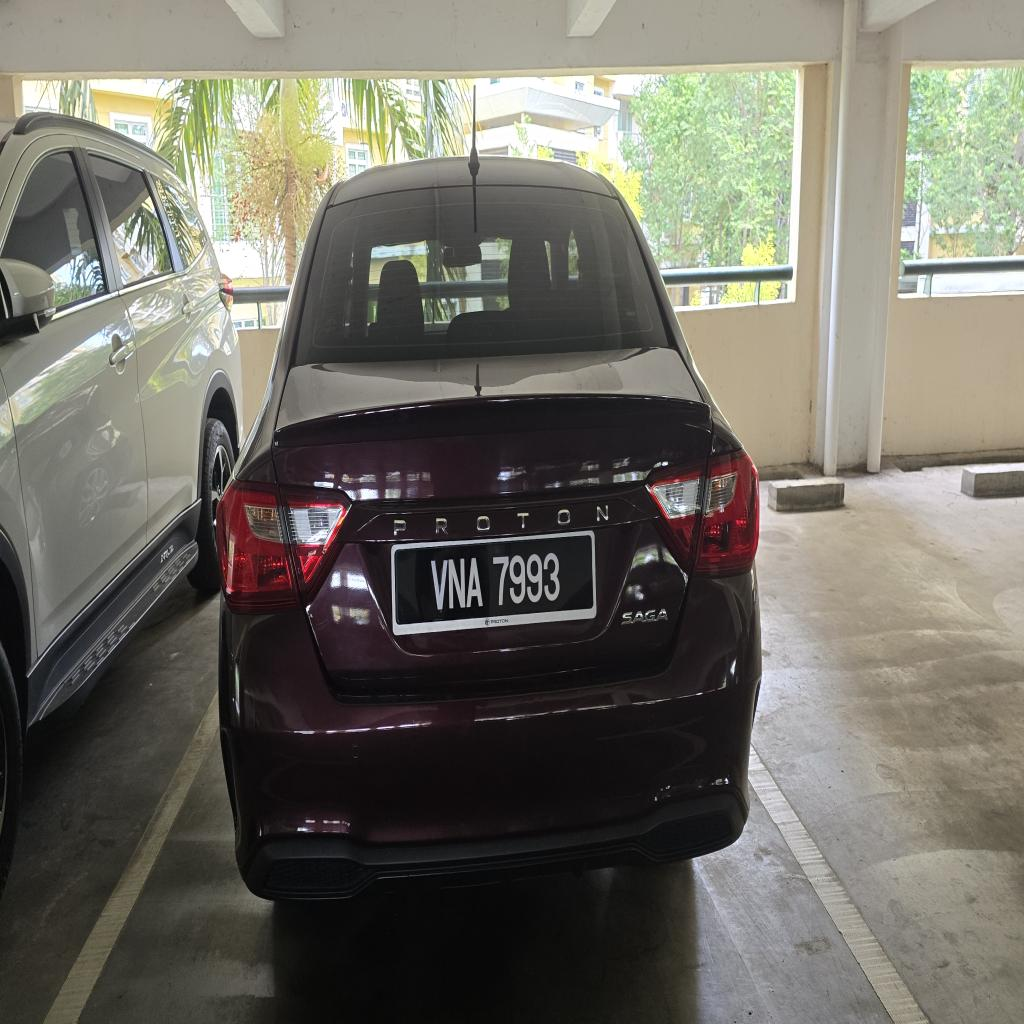car: (218, 158, 760, 898)
car plate: (392, 531, 596, 635)
